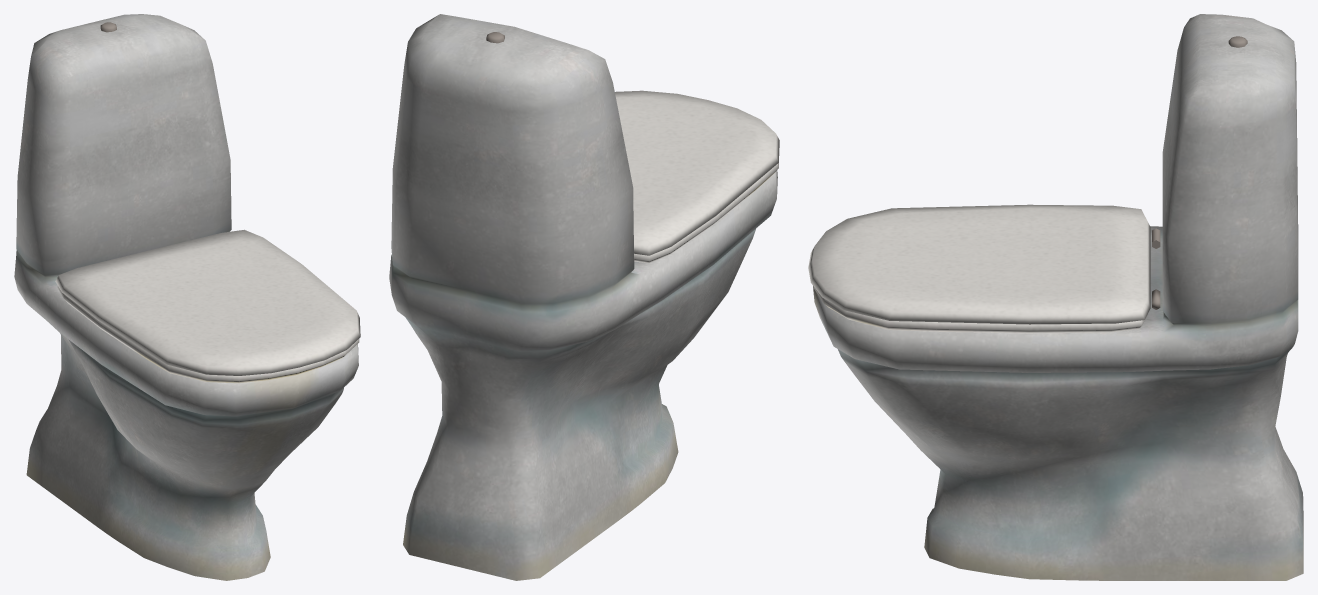
The picture shows the model from 3 angles, left to right: view 1: azimuth 30°, elevation 25°; view 2: azimuth 150°, elevation 25°; view 3: azimuth 270°, elevation 25°; orthographic projection. The views are drawn at different scales.
Visible parts, largest first — view 1: Do_HP, Do_lokk002; view 2: Do_HP, Do_lokk002; view 3: Do_HP, Do_lokk002.
Boxes of the visible parts, x1,y1,x2,y2 form: Do_HP: (14,14,359,580); Do_lokk002: (55,229,360,375); Do_HP: (389,14,778,580); Do_lokk002: (615,90,779,255); Do_HP: (813,14,1303,580); Do_lokk002: (808,204,1150,324).
Bounding box in the file's own units: 46.01 × 96.11 × 84.85.
4 materials, 4 textured.
